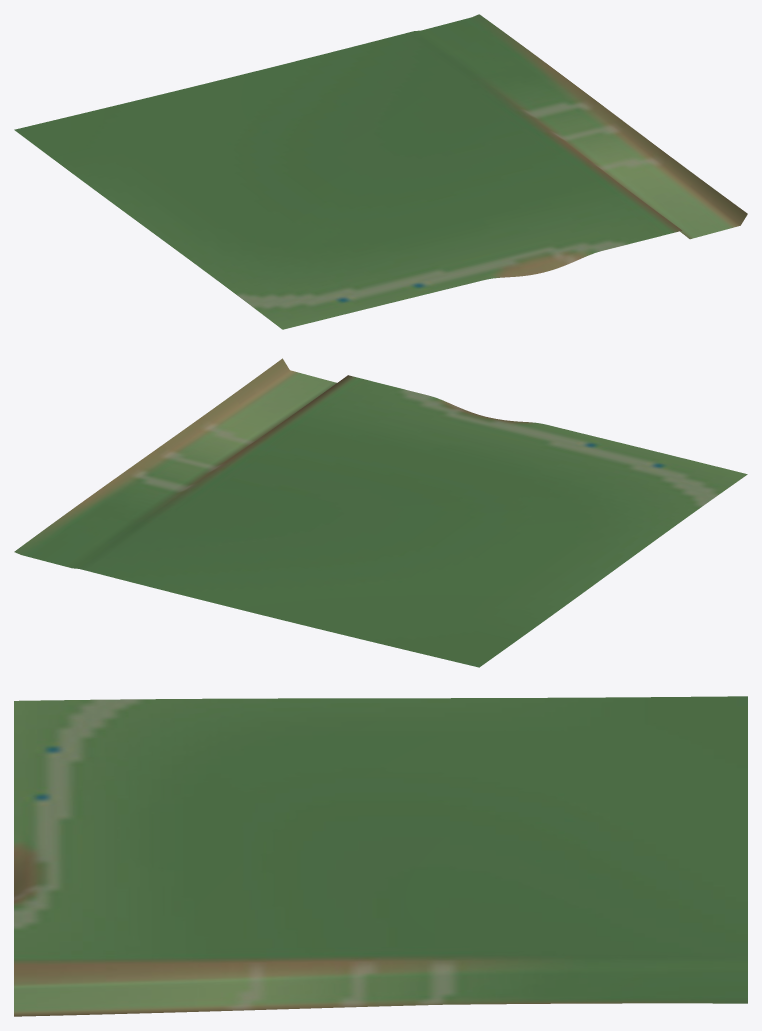
The model's file is terrain_T_W04_N05.glb.
3 renders of one model, top to bottom at view 1: azimuth 30°, elevation 25°; view 2: azimuth 150°, elevation 25°; view 3: azimuth 270°, elevation 25°, orthographic. The views are drawn at different scales.
Visible parts, largest first — view 1: Terrain_T_W04_N05; view 2: Terrain_T_W04_N05; view 3: Terrain_T_W04_N05.
Boxes of the visible parts, <box> form: Terrain_T_W04_N05: <box>14,14,747,329</box>; Terrain_T_W04_N05: <box>14,358,747,667</box>; Terrain_T_W04_N05: <box>14,696,747,1016</box>.
Bounding box in the file's own units: 2000 × 59.53 × 2000.
Materials: 1 (1 with a texture image).
